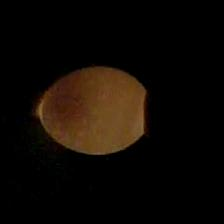infertile: (35, 64, 149, 158)
